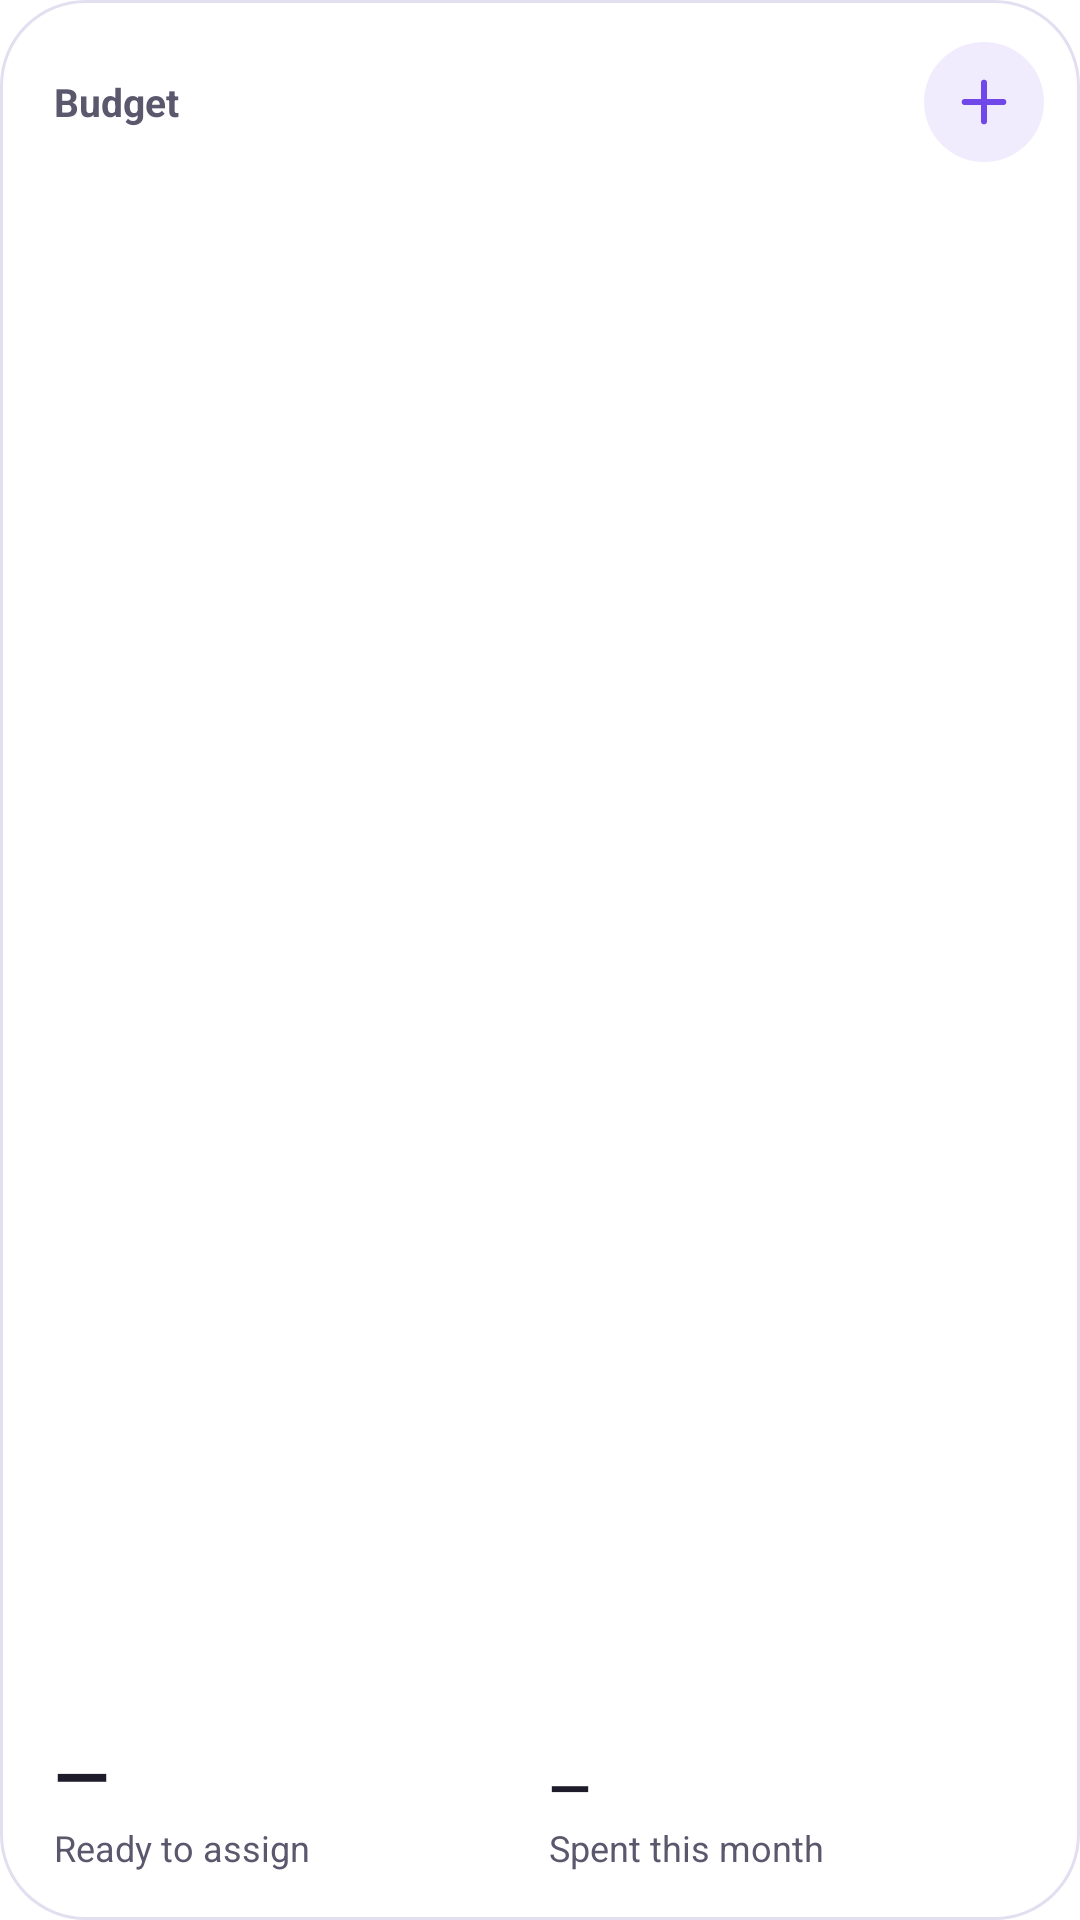

Icons on this 1080 x 1920 Android screen, each with its box as box(x1, y1, x2, y2):
Add transaction: box(924, 42, 1044, 162)
